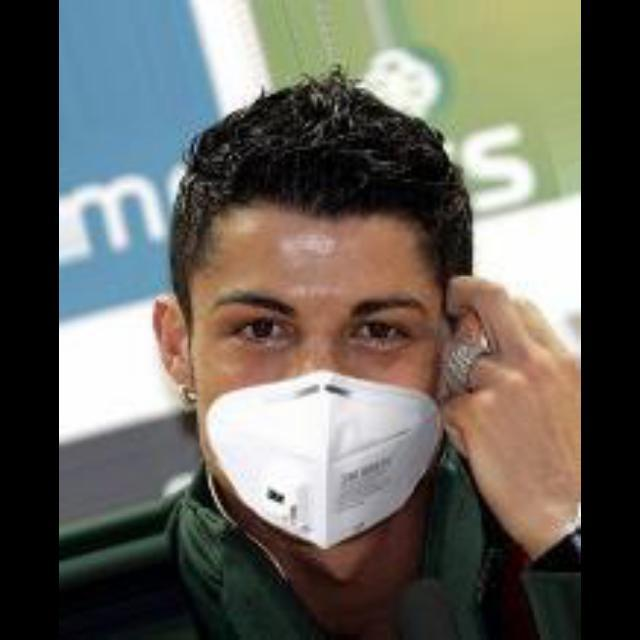suspicion: (157, 128, 477, 528)
